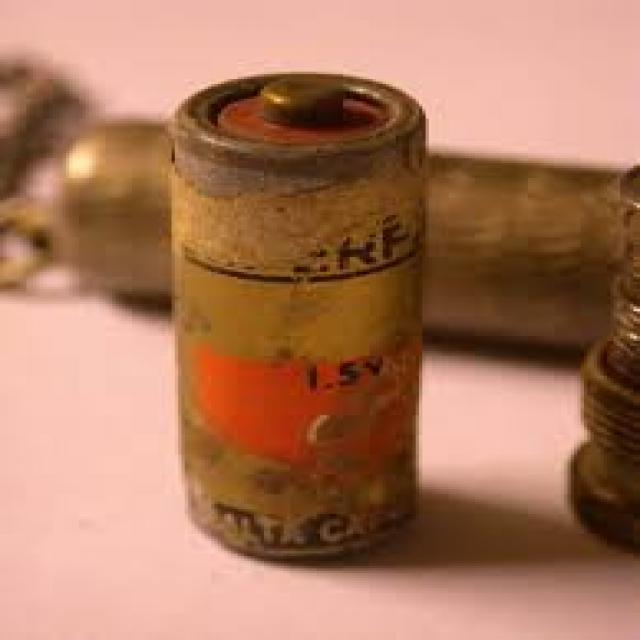battery: (178, 72, 422, 564)
